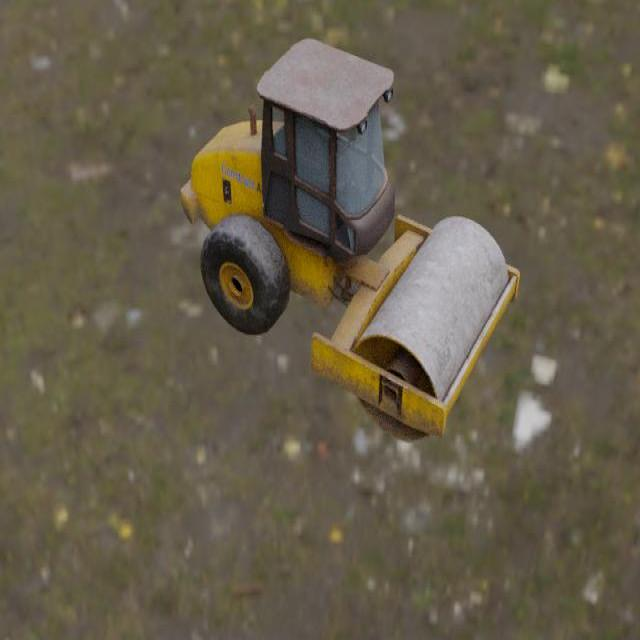Roller: (180, 37, 520, 443)
